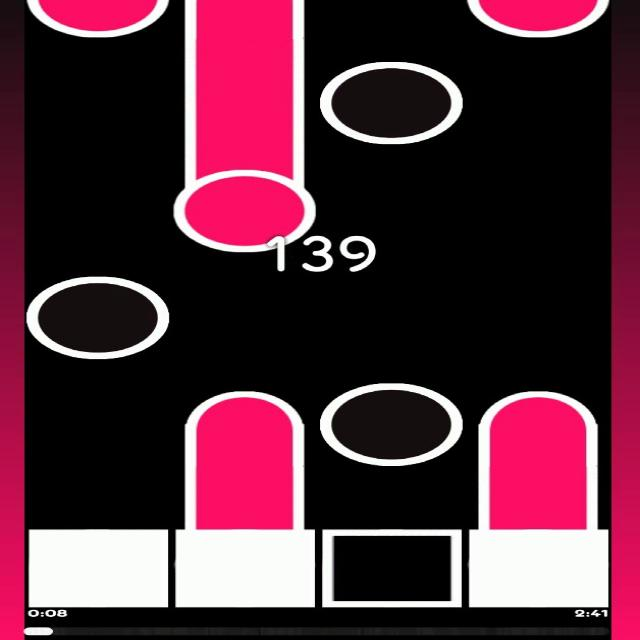end_hold: (178, 372, 310, 442), (475, 374, 604, 438)
note: (25, 271, 172, 359), (319, 381, 464, 464), (319, 62, 464, 144)
start_hold: (175, 154, 316, 252), (26, 0, 174, 37), (467, 0, 610, 38)
